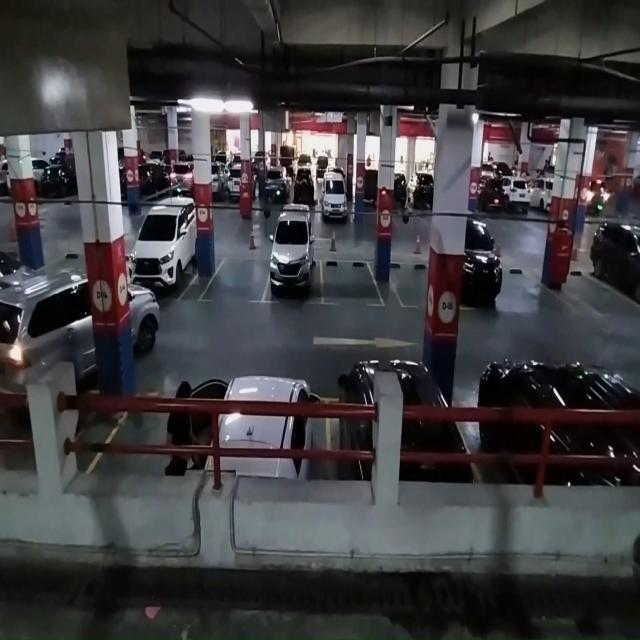empty: (319, 246, 383, 309), (206, 253, 267, 306), (389, 255, 428, 310)
occupied: (134, 208, 196, 304), (265, 234, 323, 306)
